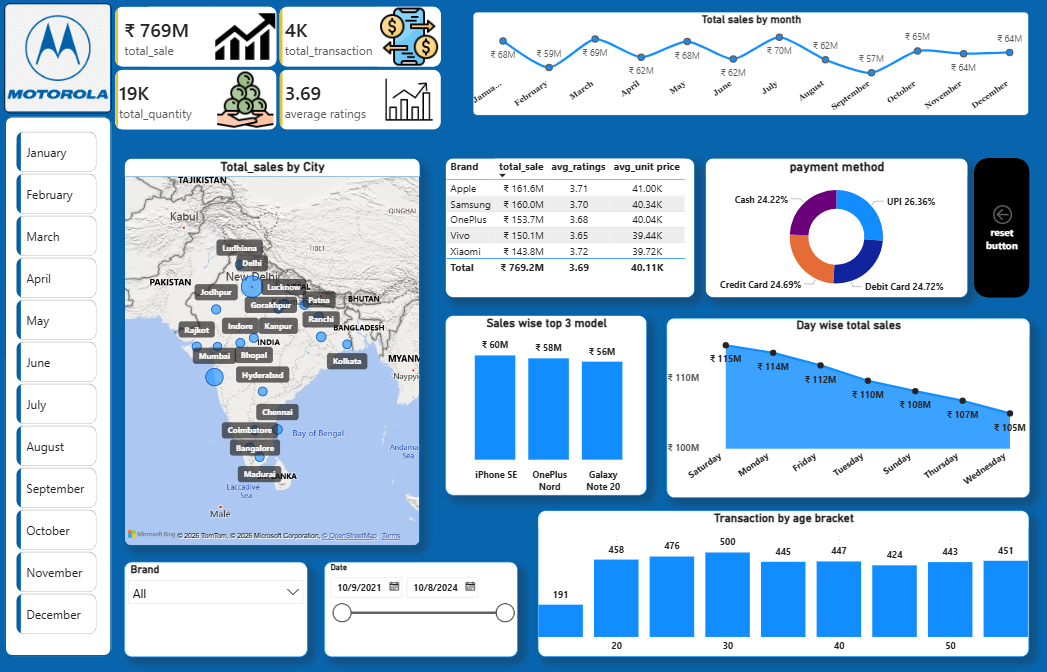

What the dashboard file says about the page in this screenshot:
{"tool":"powerbi","page":{"name":"Sales Dashboard","canvas":[1400,900],"ordinal":0},"visuals":[{"type":"image","box":[7.3,7.3,144,146.9],"z":0},{"type":"shape","box":[6.9,156.9,144.8,722.4],"z":1000},{"type":"advancedSlicerVisual","fields":{"Values":["Sheet1.date.Variation.Date Hierarchy.Month"]},"box":[19,174.1,117.2,686.2],"z":2000},{"type":"cardVisual","fields":{"Data":["sales_data.total_sale","sales_data.total_quantity","sales_data.total_transaction","sales_data.average ratings"]},"box":[150,6.9,444.8,175.9],"z":3000},{"type":"map","title":"Total_sales by City","fields":{"Category":["sales_data.City"],"Size":["sales_data.total_sale"]},"box":[167.2,213.8,394.8,517.2],"z":4000},{"type":"lineChart","title":"Total sales by month","fields":{"Category":["sales_data.date.Variation.Date Hierarchy.Month"],"Y":["sales_data.total_sale"]},"box":[631.7,18.3,741.7,138.3],"z":5000},{"type":"tableEx","fields":{"Values":["sales_data.Brand","sales_data.total_sale","sales_data.average ratings","Avg(sales_data.Price Per Unit)"]},"box":[594.8,213.8,332.8,186.2],"z":6000},{"type":"clusteredColumnChart","title":"Sales wise top 3 model","fields":{"Category":["sales_data.Mobile Model"],"Y":["sales_data.total_sale"]},"box":[594.8,424.1,269,239.7],"z":7000},{"type":"donutChart","title":"payment method","fields":{"Category":["sales_data.Payment Method"],"Y":["sales_data.total_transaction"]},"box":[941.7,213.3,350,186.7],"z":8000},{"type":"areaChart","title":"Day wise total sales","fields":{"Category":["sales_data.day_name"],"Y":["sales_data.total_sale"]},"box":[889.7,425.9,484.5,239.7],"z":9000},{"type":"clusteredColumnChart","title":"Transaction by age bracket","fields":{"Category":["sales_data.Customer Age (bins)"],"Y":["Count(sales_data.Transaction ID)"]},"box":[718.3,683.3,655,195],"z":10000},{"type":"slicer","title":"Sales wise top 3 model","fields":{"Values":["sales_data.Brand"]},"box":[167.2,751.7,244.8,127.6],"z":11000},{"type":"slicer","fields":{"Values":["sales_data.date"]},"box":[432.8,751.7,258.6,127.6],"z":12000},{"type":"actionButton","box":[1300,213.8,74.1,186.2],"z":13000}]}

Visuals, with their boxes in screenshot pixels (x1, y1, x2, y2), scaled from the page's 1400x900 canvas onto the 1047x672 screenshot:
image: <box>5,5,113,115</box>
shape: <box>5,117,113,657</box>
advancedSlicerVisual - Sheet1.date.Variation.Date Hierarchy.Month: <box>14,130,102,642</box>
cardVisual - sales_data.total_sale x sales_data.total_quantity: <box>112,5,445,136</box>
"Total_sales by City" map: <box>125,160,420,546</box>
"Total sales by month" lineChart: <box>472,14,1027,117</box>
tableEx - sales_data.Brand x sales_data.total_sale: <box>445,160,694,299</box>
"Sales wise top 3 model" clusteredColumnChart: <box>445,317,646,496</box>
"payment method" donutChart: <box>704,159,966,299</box>
"Day wise total sales" areaChart: <box>665,318,1028,497</box>
"Transaction by age bracket" clusteredColumnChart: <box>537,510,1027,656</box>
"Sales wise top 3 model" slicer: <box>125,561,308,657</box>
slicer - sales_data.date: <box>324,561,517,657</box>
actionButton: <box>972,160,1028,299</box>
